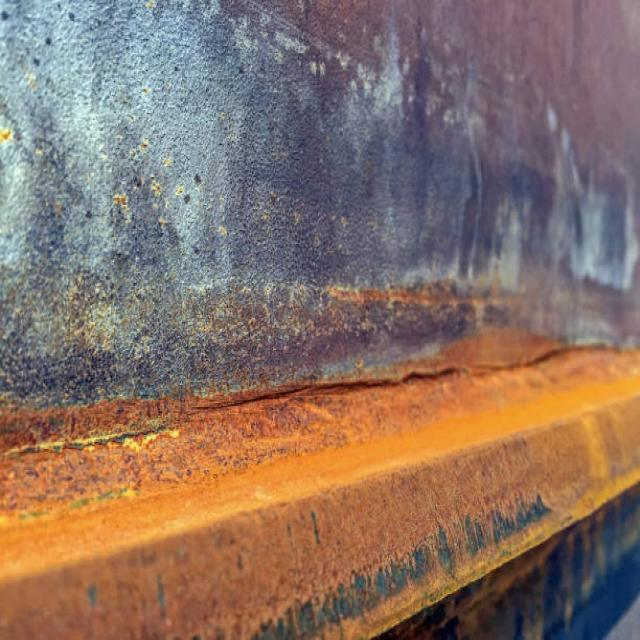Defect: (201, 347, 521, 413)
